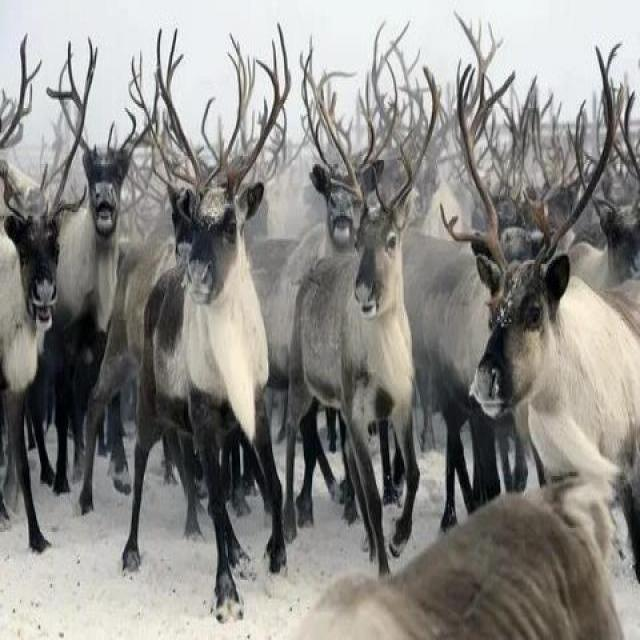deer: (180, 40, 390, 507), (443, 72, 640, 552), (120, 101, 310, 590), (290, 106, 438, 554), (0, 52, 69, 581), (53, 35, 126, 477)
